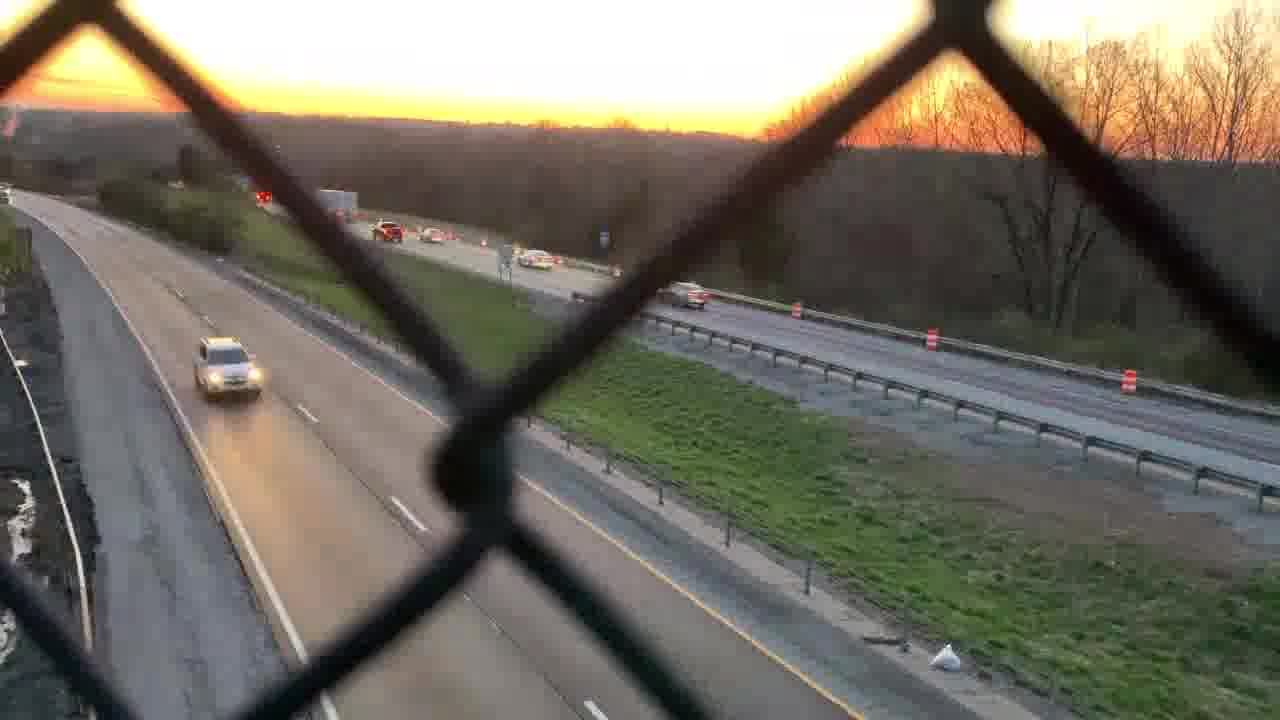heavyTruck: (315, 185, 361, 219)
largeCar: (194, 334, 263, 403)
lightTruck: (374, 219, 401, 244)
smallCar: (654, 275, 713, 311), (515, 245, 557, 268)
vehicle: (417, 227, 446, 247)
